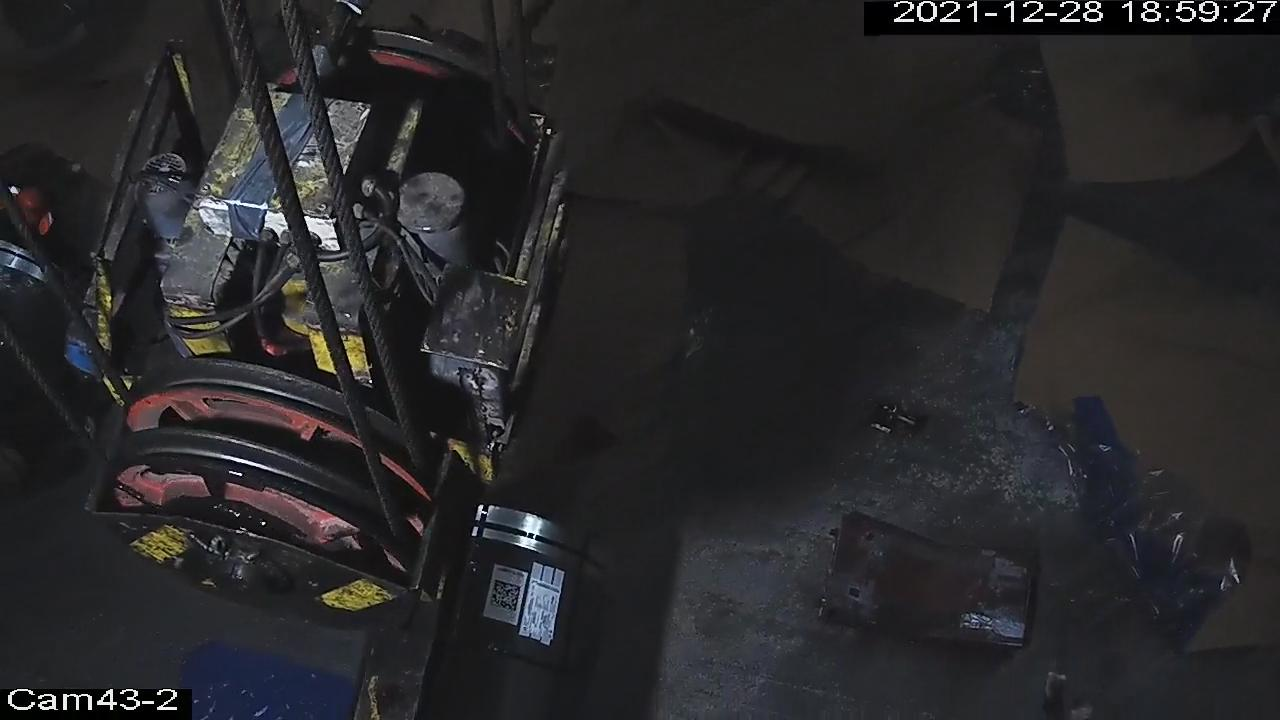data matrix: (489, 578, 524, 615)
